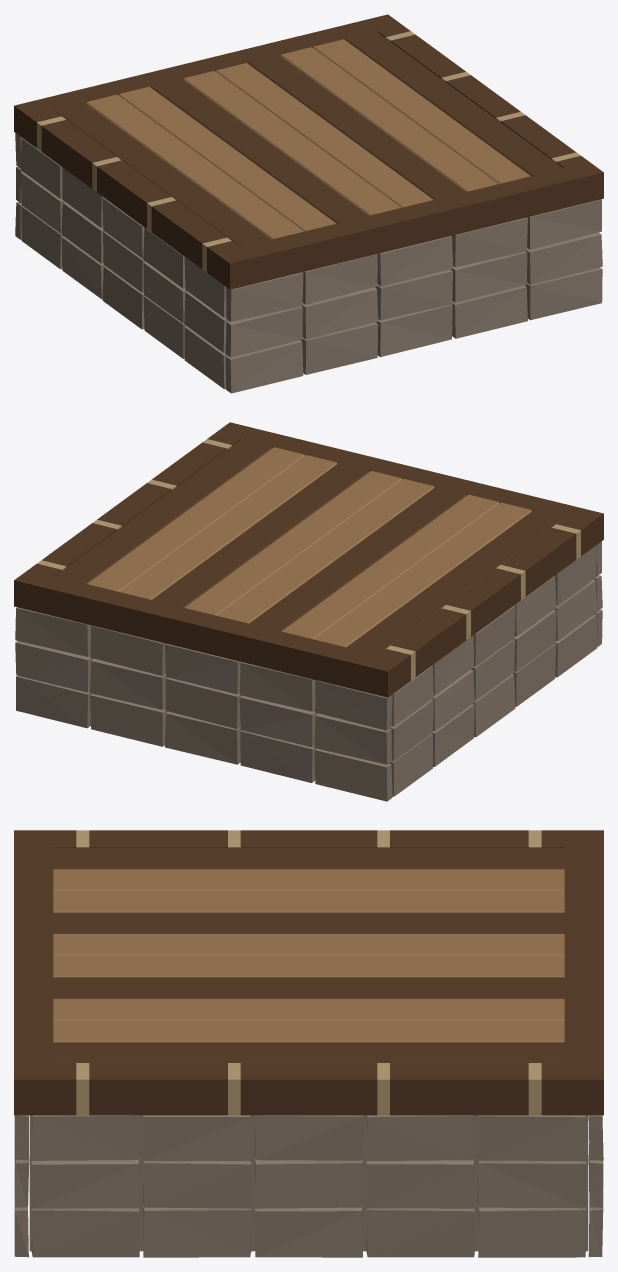
File: foundation.glb
The picture shows the model from 3 angles, top to bottom: view 1: azimuth 30°, elevation 25°; view 2: azimuth 150°, elevation 25°; view 3: azimuth 270°, elevation 25°; orthographic projection. The views are drawn at different scales.
Visible parts, largest first — view 1: foundation_mesh; view 2: foundation_mesh; view 3: foundation_mesh.
Part boxes in pixels (x1=…): foundation_mesh: x1=14, y1=14, x2=603, y2=393; foundation_mesh: x1=14, y1=422, x2=603, y2=801; foundation_mesh: x1=14, y1=830, x2=603, y2=1257.
Size of the model in its own units: 3 by 1 by 3.
